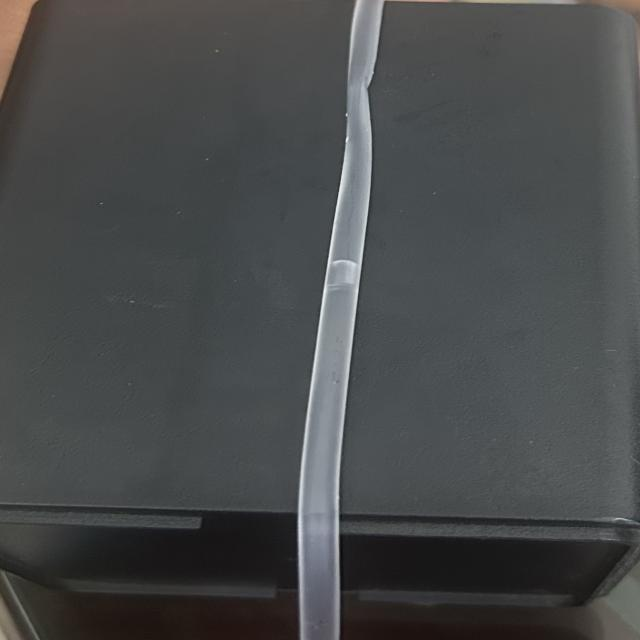bubble: (297, 234, 388, 306)
